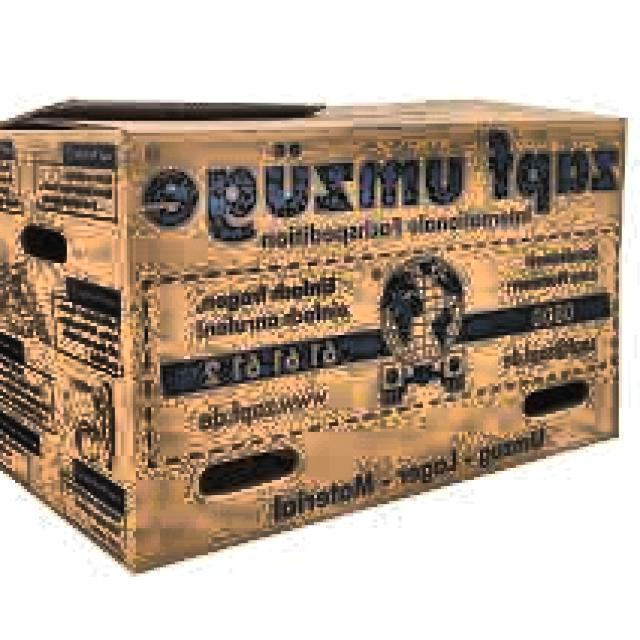cardboard: (0, 94, 631, 574)
